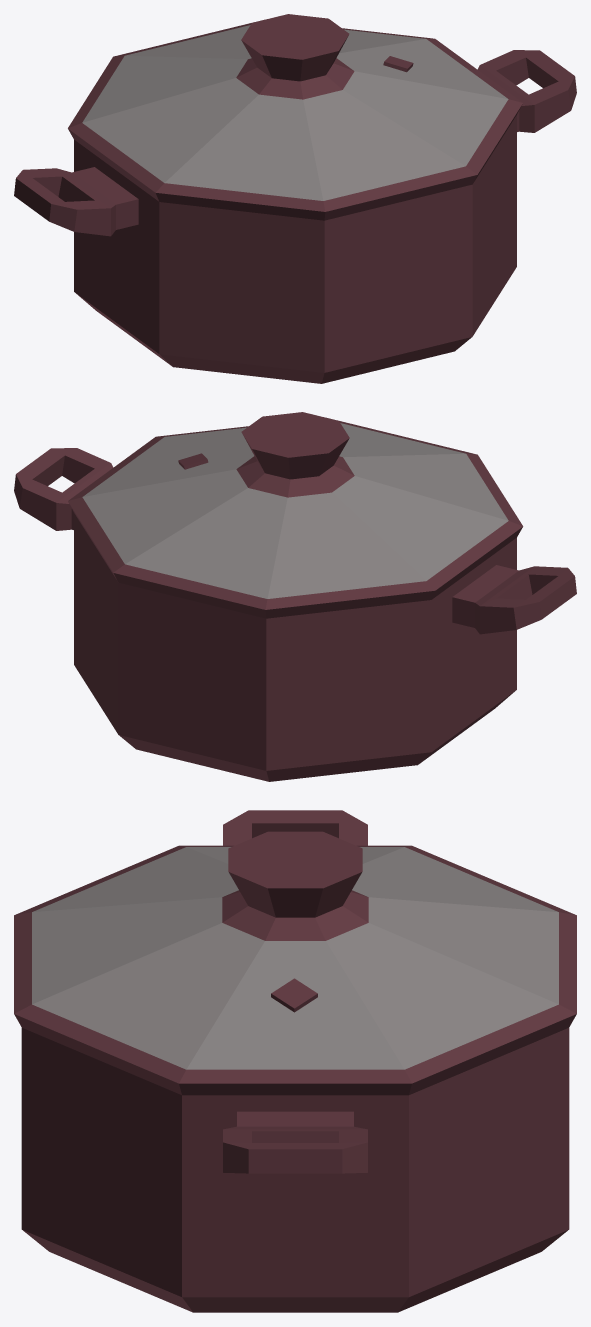
File: pot-lid-medium.fbx
3 renders of one model, top to bottom at view 1: azimuth 30°, elevation 25°; view 2: azimuth 150°, elevation 25°; view 3: azimuth 270°, elevation 25°, orthographic. The views are drawn at different scales.
Parts seen in each view (by area): view 1: pot-lid-medium; view 2: pot-lid-medium; view 3: pot-lid-medium.
Boxes of the visible parts, x1=… form: pot-lid-medium: x1=14, y1=14, x2=576, y2=383; pot-lid-medium: x1=14, y1=412, x2=576, y2=781; pot-lid-medium: x1=14, y1=810, x2=576, y2=1312.
Size of the model in its own units: 0.3136 by 0.1493 by 0.2184.
